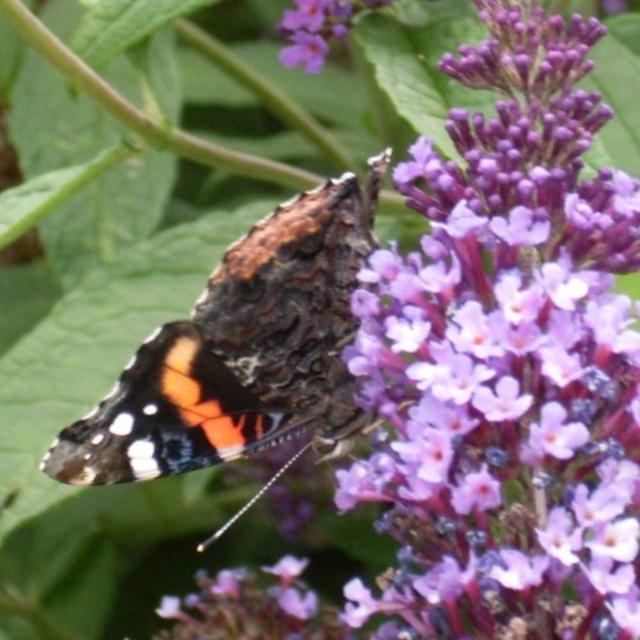Flower: (153, 0, 639, 638), (264, 12, 346, 68), (283, 0, 329, 26)
